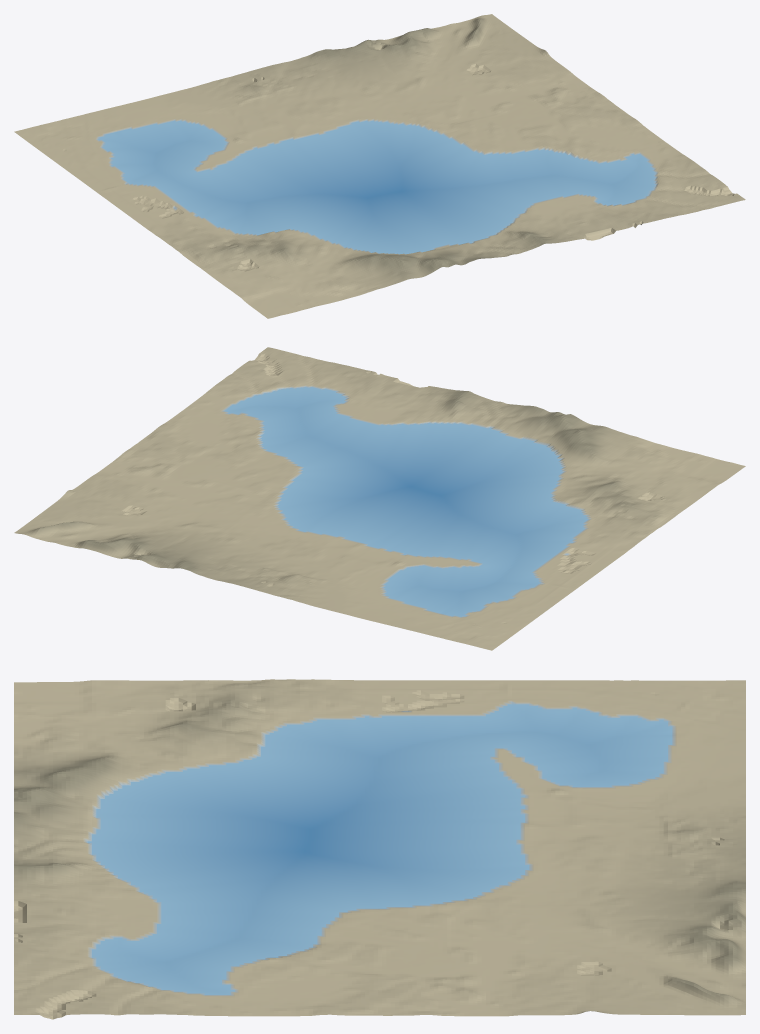
The model's file is houghton_lake_mi.glb.
The picture shows the model from 3 angles, top to bottom: view 1: azimuth 30°, elevation 25°; view 2: azimuth 150°, elevation 25°; view 3: azimuth 270°, elevation 25°; orthographic projection. The views are drawn at different scales.
Visible parts, largest first — view 1: terrain, water; view 2: terrain, water; view 3: terrain, water.
Part boxes in pixels (left/top/right/bottom): terrain: left=14, top=14, right=745, bottom=318; water: left=98, top=120, right=655, bottom=254; terrain: left=14, top=347, right=745, bottom=650; water: left=225, top=387, right=588, bottom=616; terrain: left=14, top=679, right=745, bottom=1019; water: left=87, top=704, right=672, bottom=994.
Bounding box in the file's own units: 15421 × 452 × 14188.
